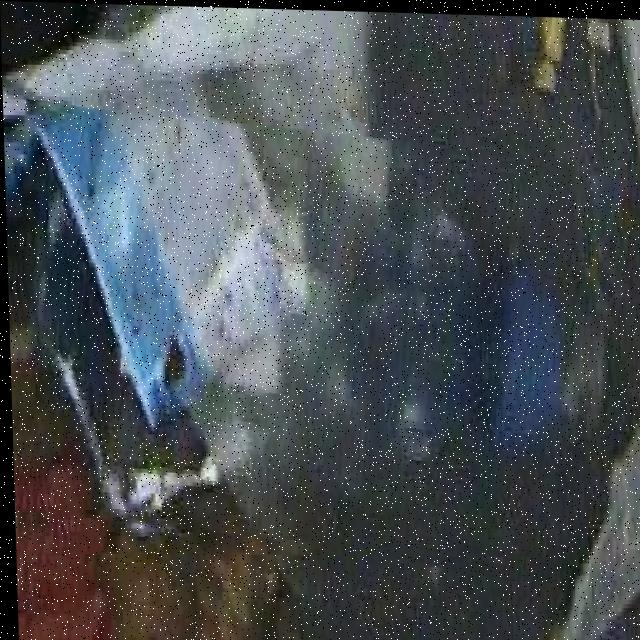litter: (3, 111, 585, 565)
